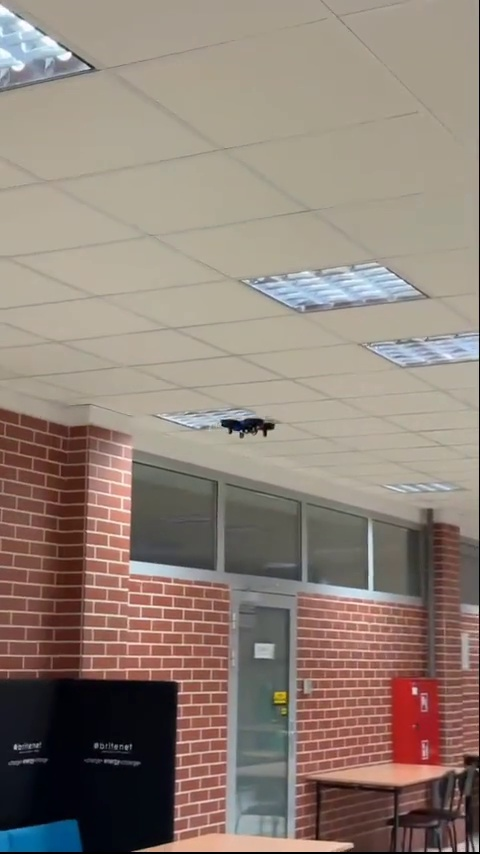drone: (216, 413, 277, 438)
